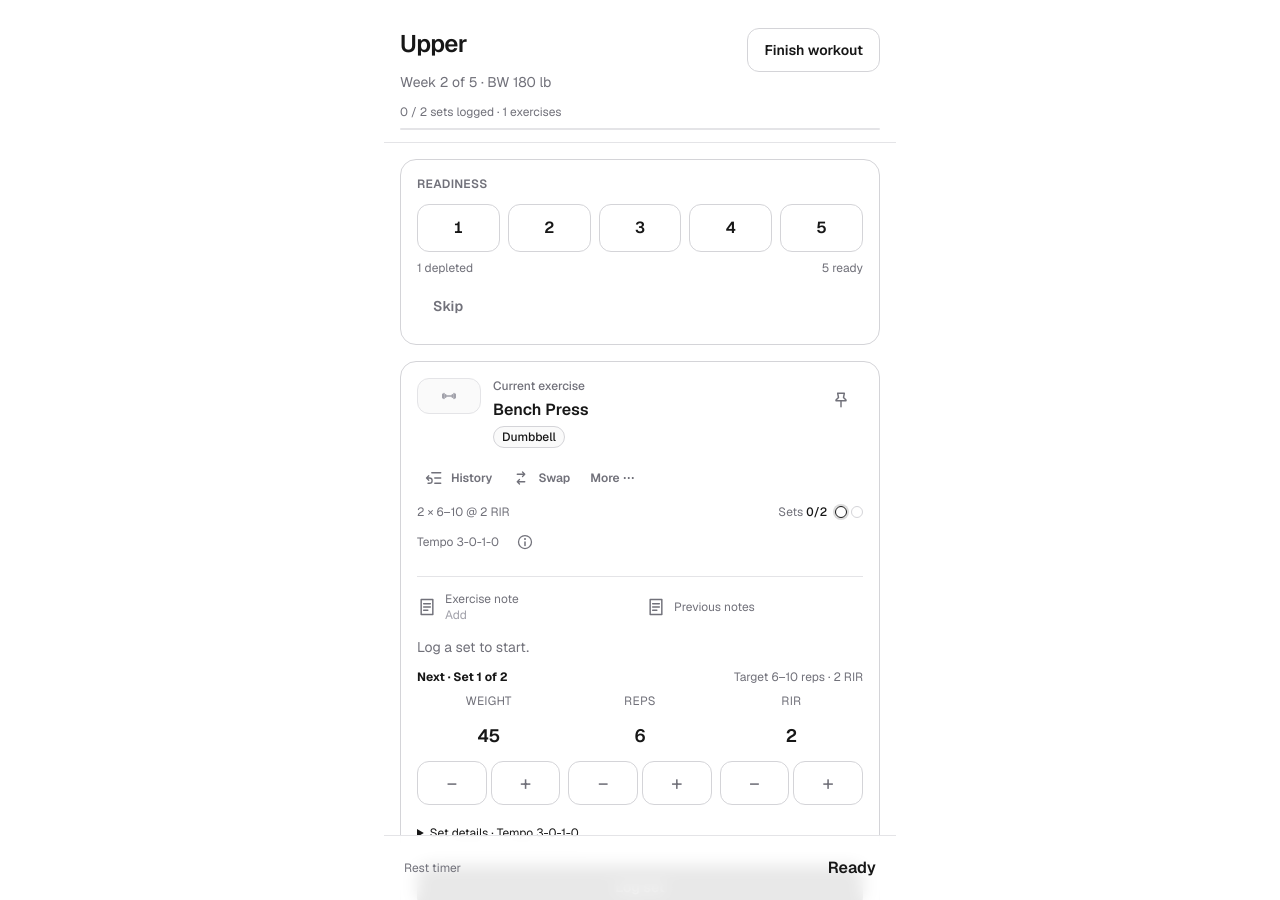
Scenario: keeps one history dialog as workout records finish streaming
Click the button "History" at (459, 478), box [417,456,500,500]
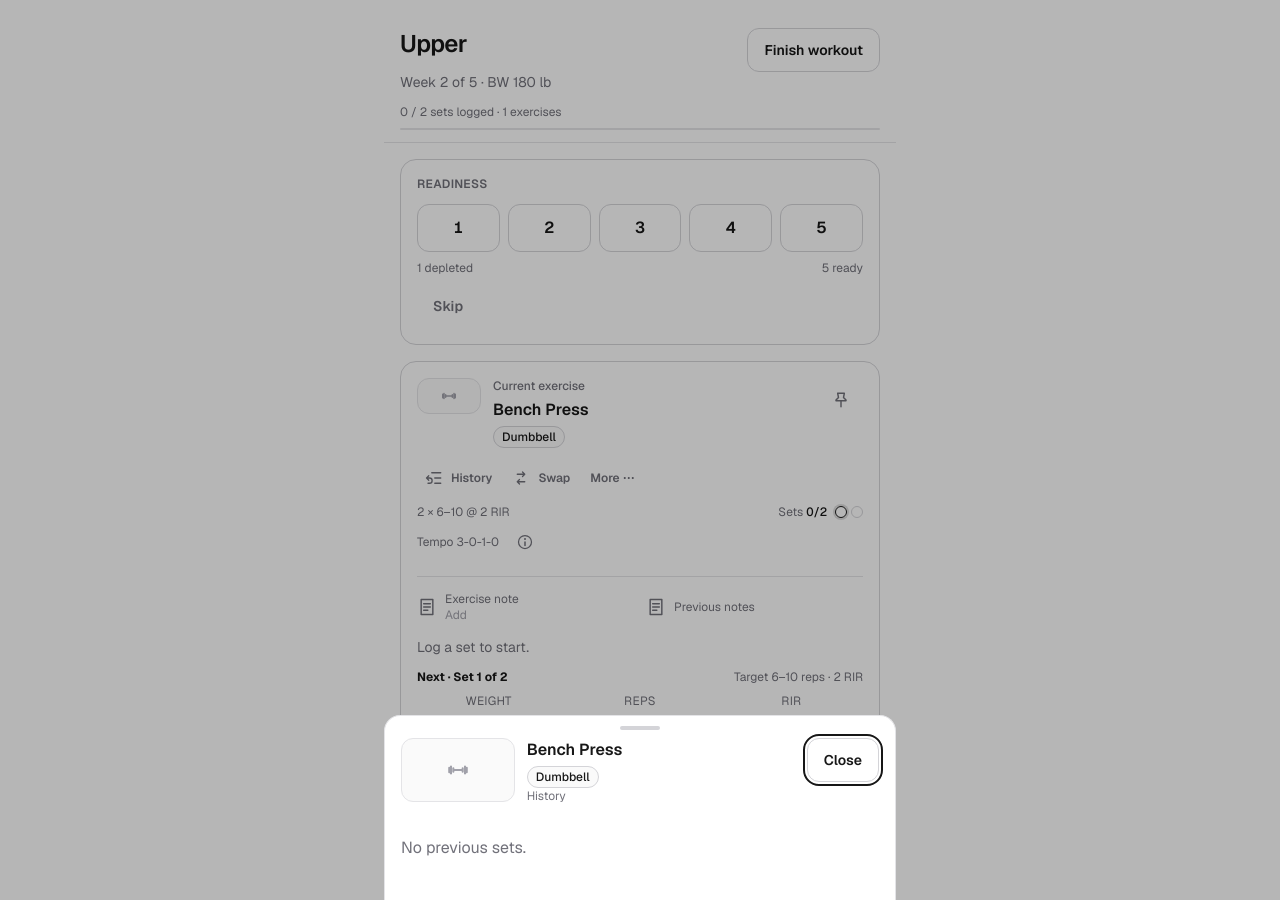
Check: the number of dialogs is 1, box [384,715,896,899]
Check: the text "No previous sets." is shown, box [401,837,526,858]
Click the button "Close" at (843, 760), box [807,738,879,782]
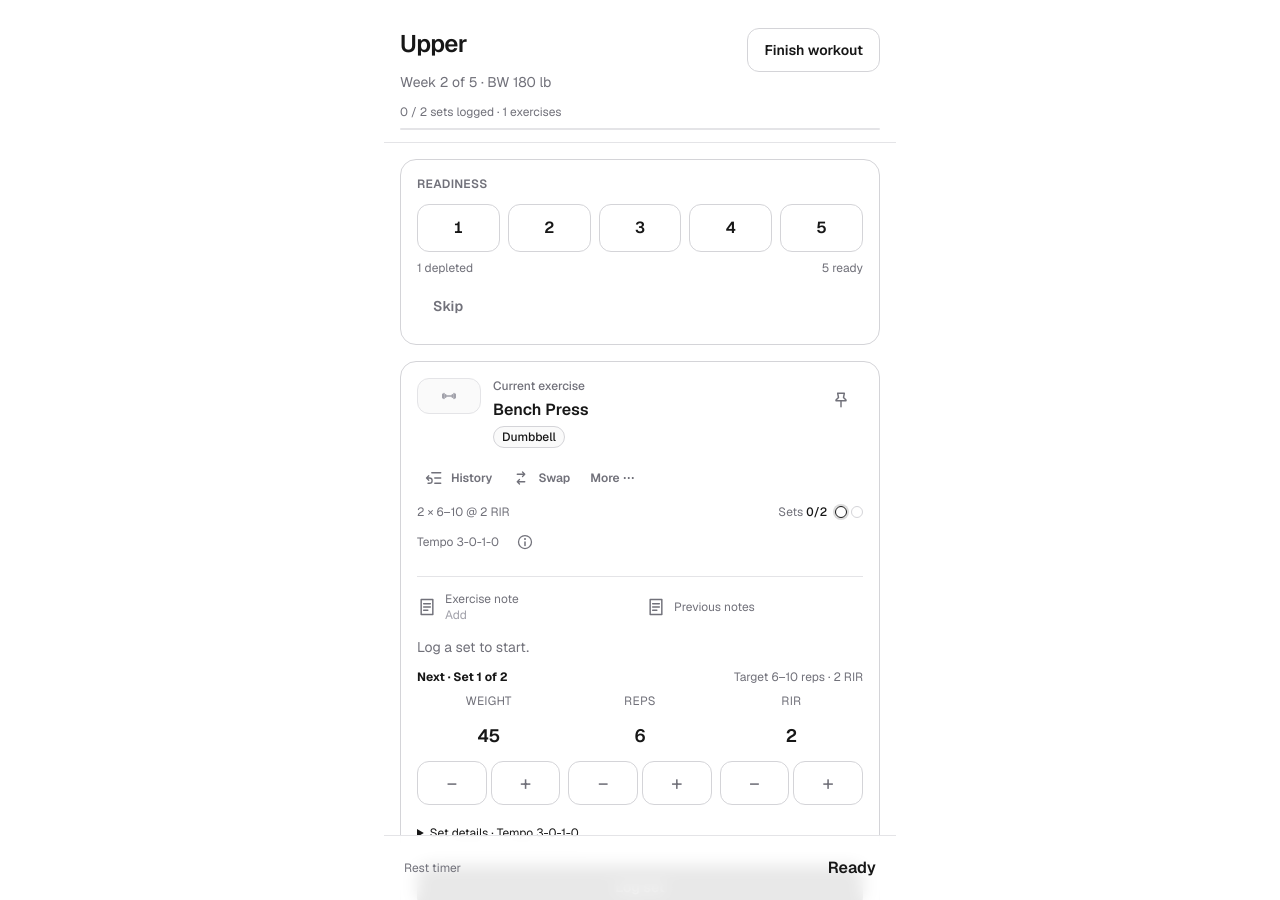
Check: no dialogs are shown
Click the button "History" at (459, 478), box [417,456,500,500]
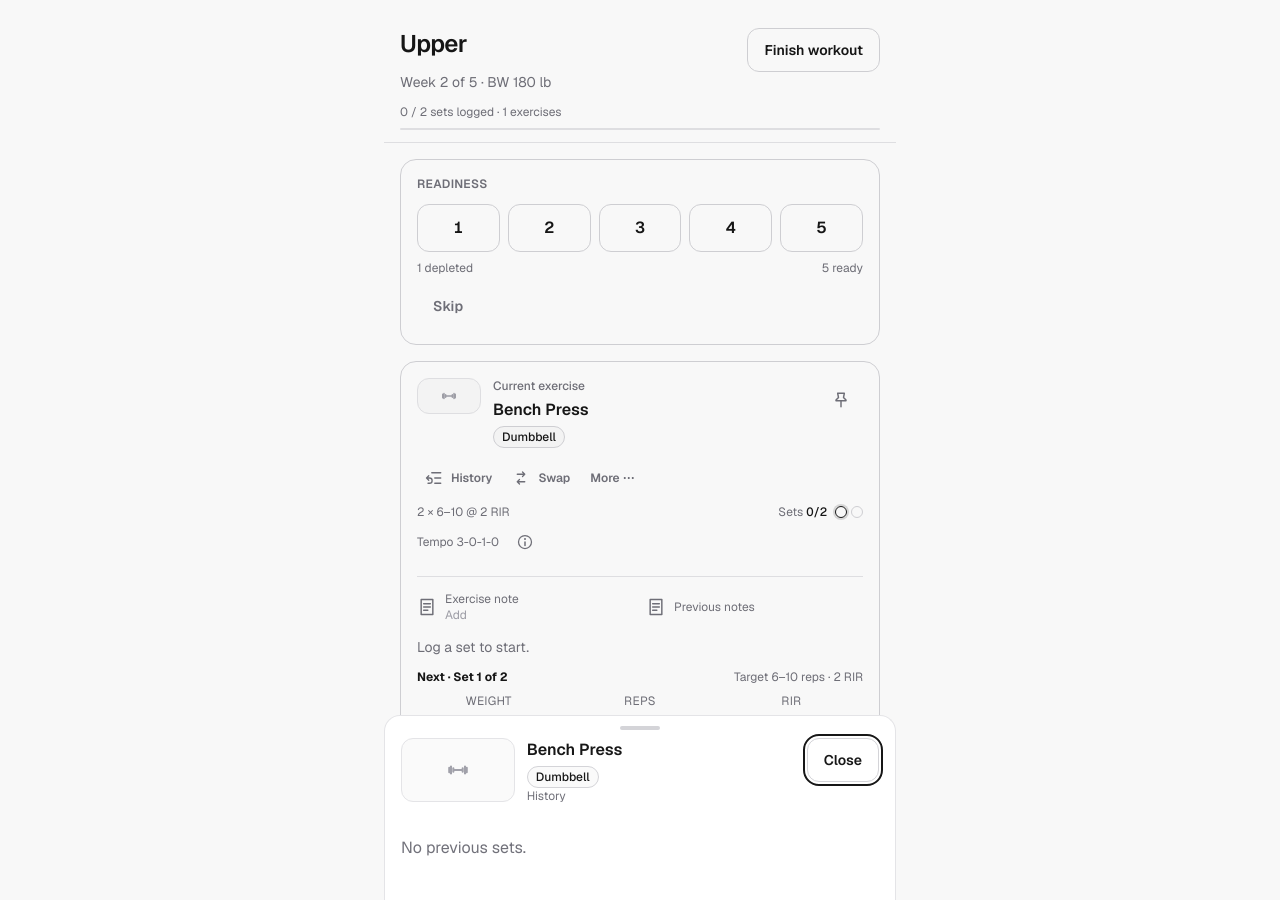
Check: the number of dialogs is 1, box [384,715,896,899]
